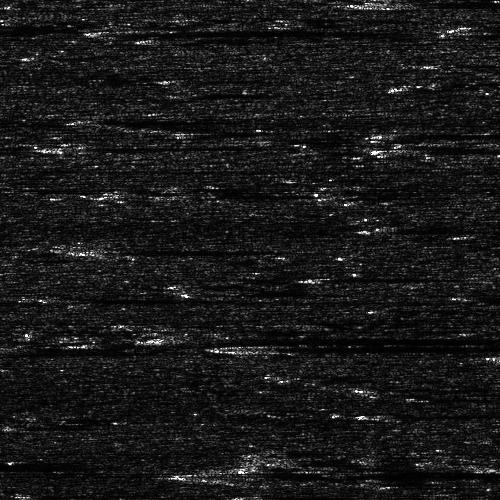rock: (389, 17, 500, 46), (0, 336, 125, 361), (107, 331, 242, 348), (166, 466, 281, 483), (30, 243, 135, 256), (73, 108, 136, 127), (194, 344, 287, 353), (334, 0, 439, 6), (444, 351, 500, 362), (9, 142, 92, 149), (78, 26, 141, 35), (219, 491, 282, 500), (36, 295, 109, 302), (339, 411, 412, 416), (149, 89, 212, 94), (127, 76, 180, 81), (382, 131, 423, 136), (366, 145, 407, 150), (285, 276, 326, 279)
shadow: (0, 336, 452, 361), (175, 331, 500, 348), (224, 466, 500, 483), (105, 108, 260, 127), (241, 344, 500, 353), (110, 26, 365, 35), (83, 243, 246, 256), (51, 142, 260, 149), (452, 17, 500, 46), (73, 295, 235, 302), (387, 0, 500, 6), (376, 411, 500, 416), (387, 145, 500, 150), (154, 76, 257, 81), (251, 491, 308, 500), (403, 131, 500, 136), (306, 276, 421, 279), (181, 89, 233, 94)
